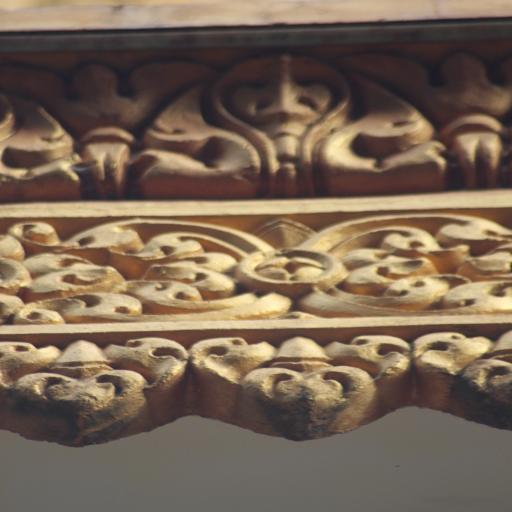hoa: (104, 223, 448, 315)
la: (145, 48, 452, 188), (194, 332, 410, 446), (0, 48, 150, 191), (4, 339, 186, 444), (413, 329, 512, 444), (445, 55, 512, 178)
